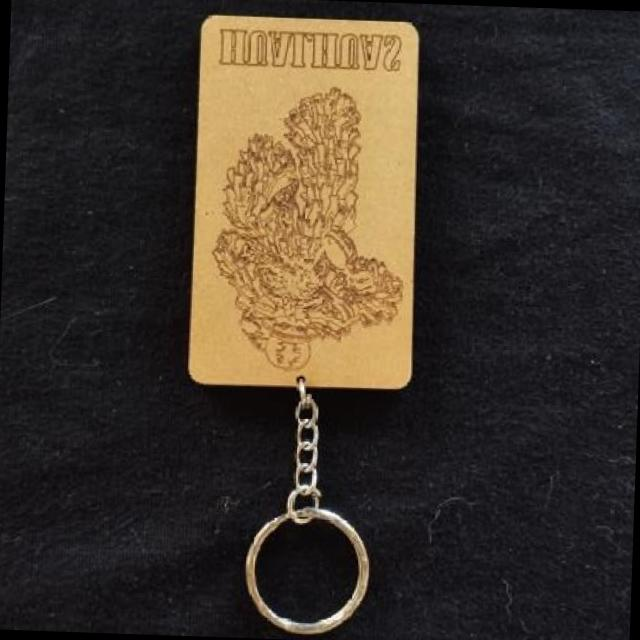Llavero: (206, 82, 410, 376)
